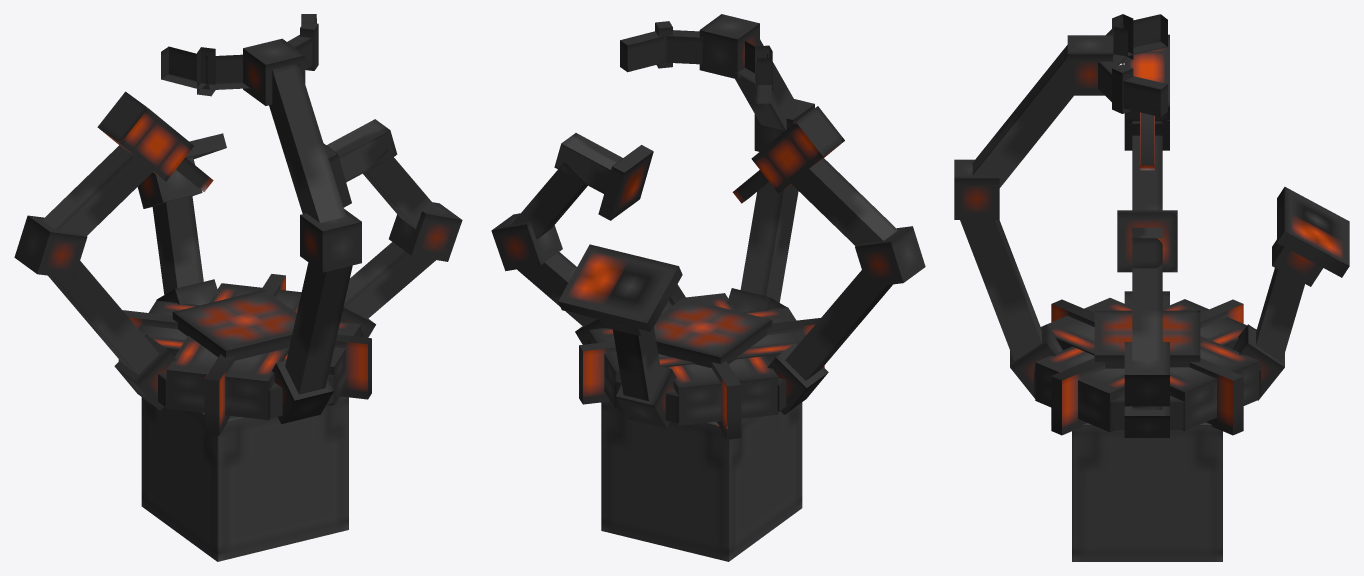
File: rocket_workbench.obj
3 views of the same model, side by side, from view 1: azimuth 30°, elevation 25°; view 2: azimuth 150°, elevation 25°; view 3: azimuth 270°, elevation 25° (orthographic). The views are drawn at different scales.
Parts seen in each view (by area): view 1: Cube; view 2: Cube; view 3: Cube.
Part boxes in pixels (left/top/right/bottom): Cube: left=14, top=14, right=462, bottom=561; Cube: left=491, top=14, right=925, bottom=561; Cube: left=954, top=14, right=1349, bottom=561.
Size of the model in its own units: 3.23 by 3.55 by 2.62.
